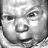angry: (4, 6, 46, 46)
